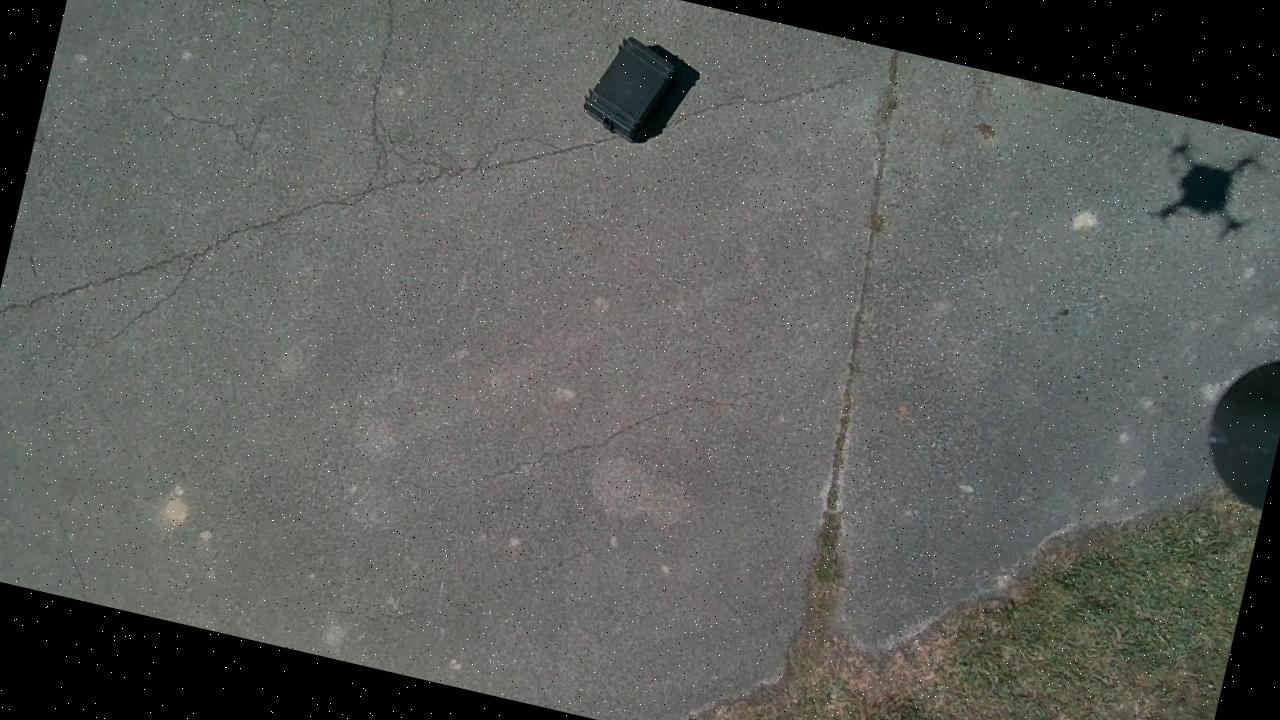rako: (578, 31, 687, 147)
